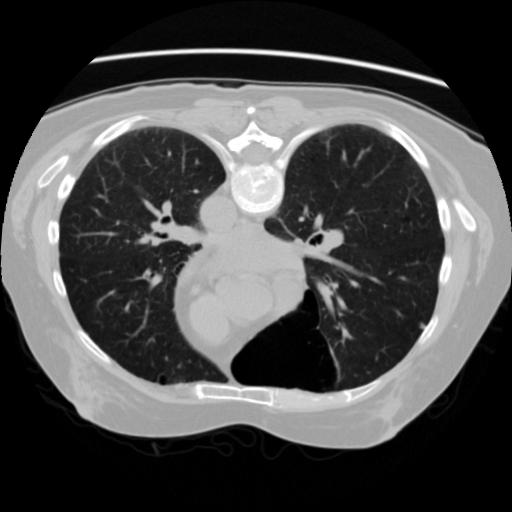nodule: (418, 322, 430, 334)
